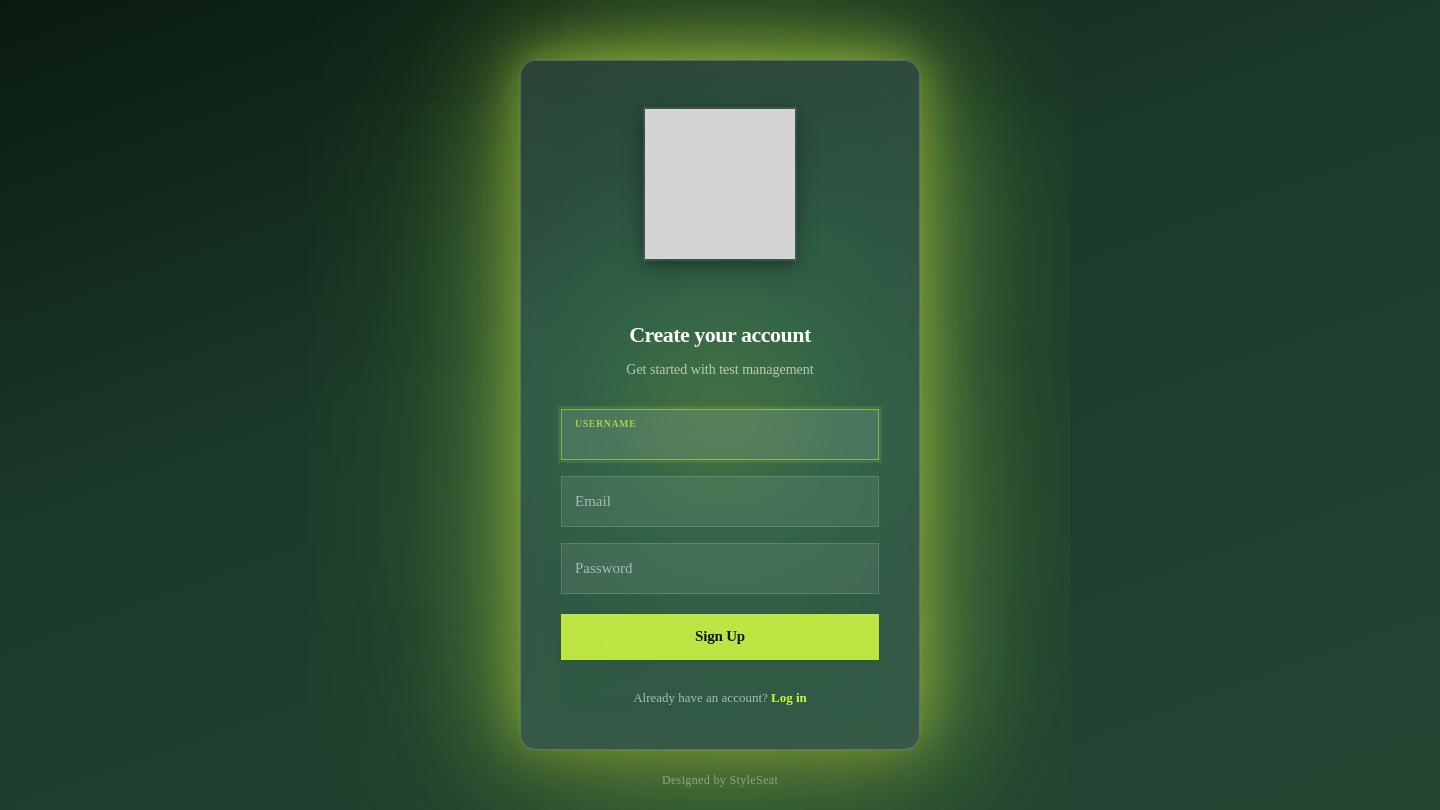
RegisterPage › shows generic error message on failure
Type "newuser" into the field labelled "Username". click: (720, 434)
box: [561,409,879,460]
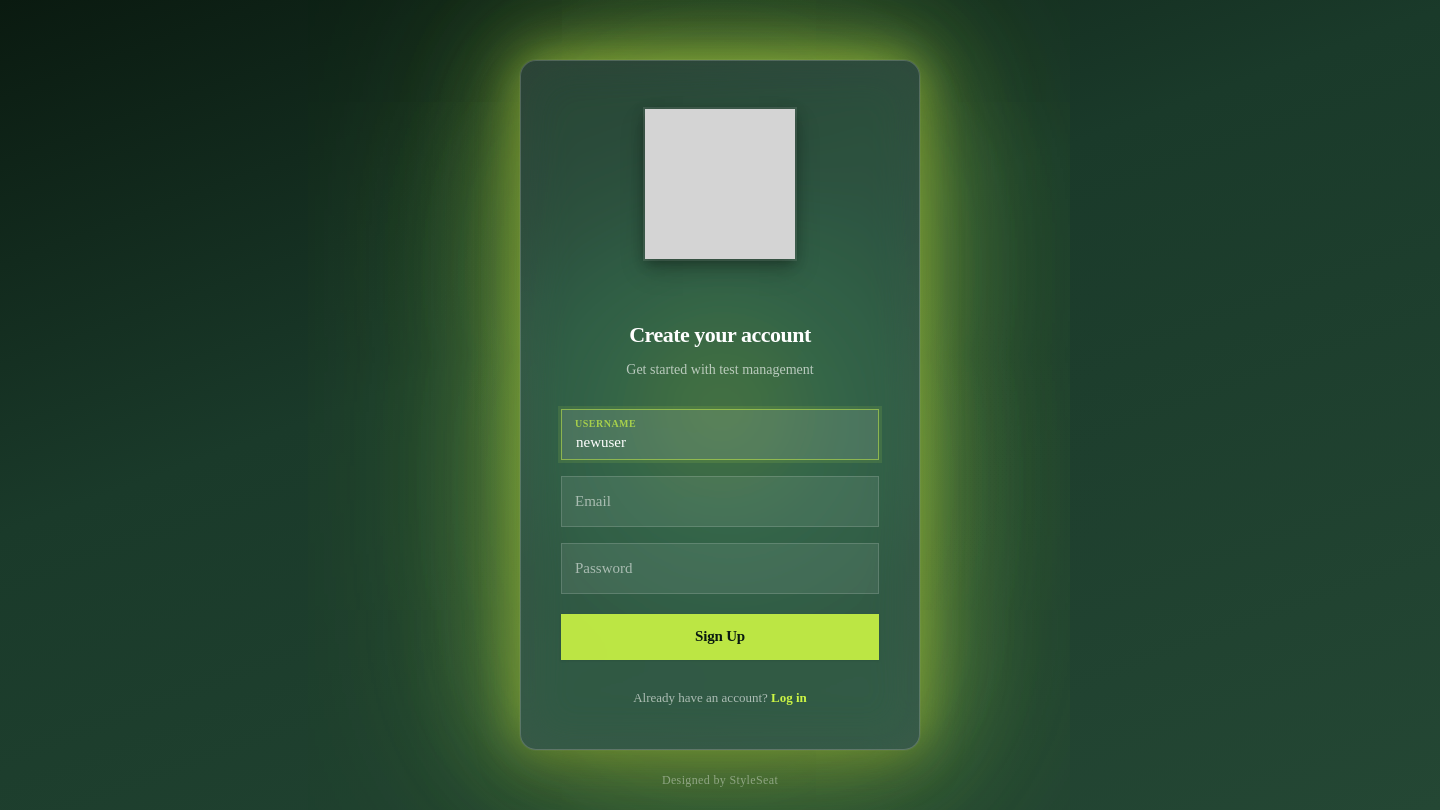
Type "new@gmail.com" into the field labelled "Email". click: (720, 501)
box: [561,476,879,527]
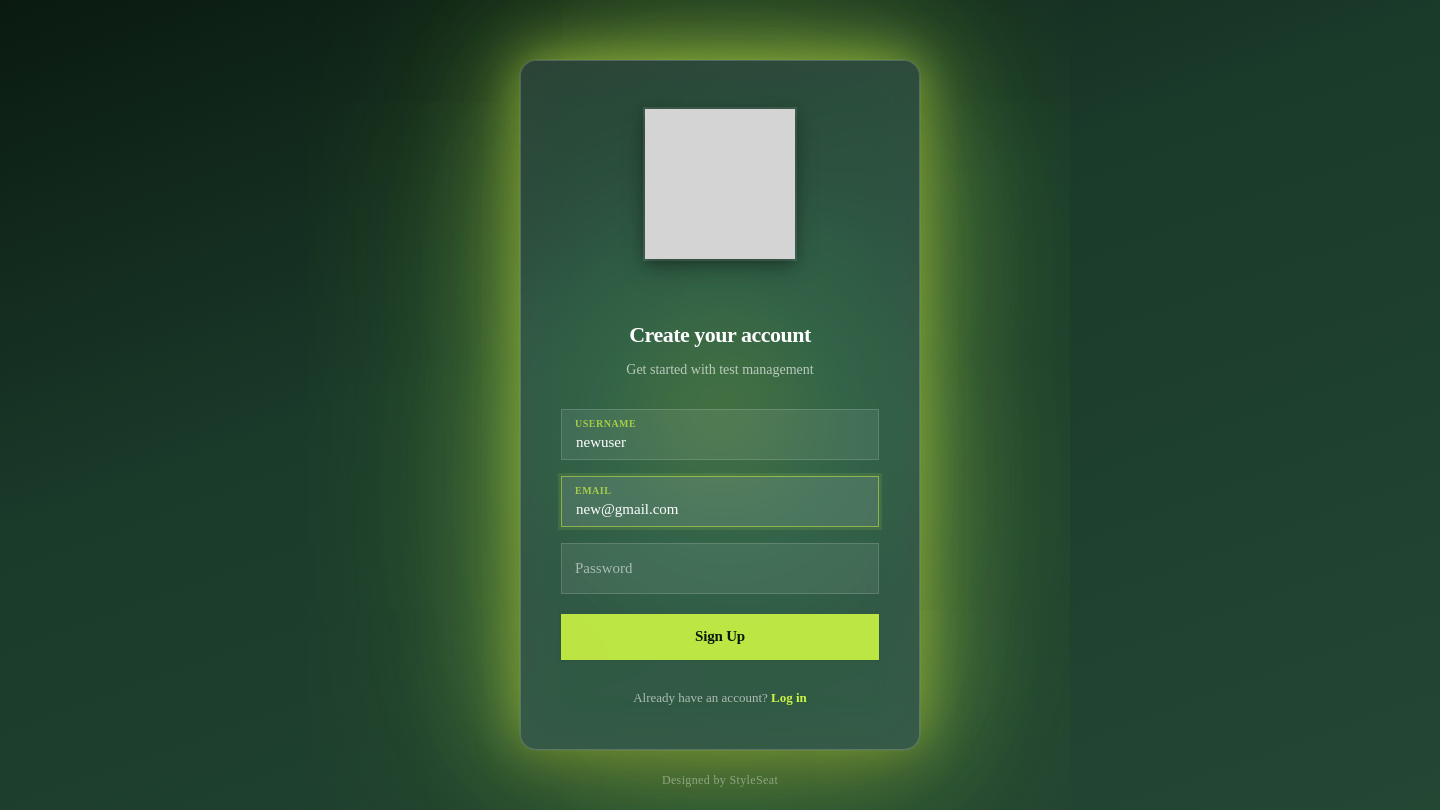
Type "Pass1234" into the password field labelled "Password". click: (720, 568)
box: [561,543,879,594]
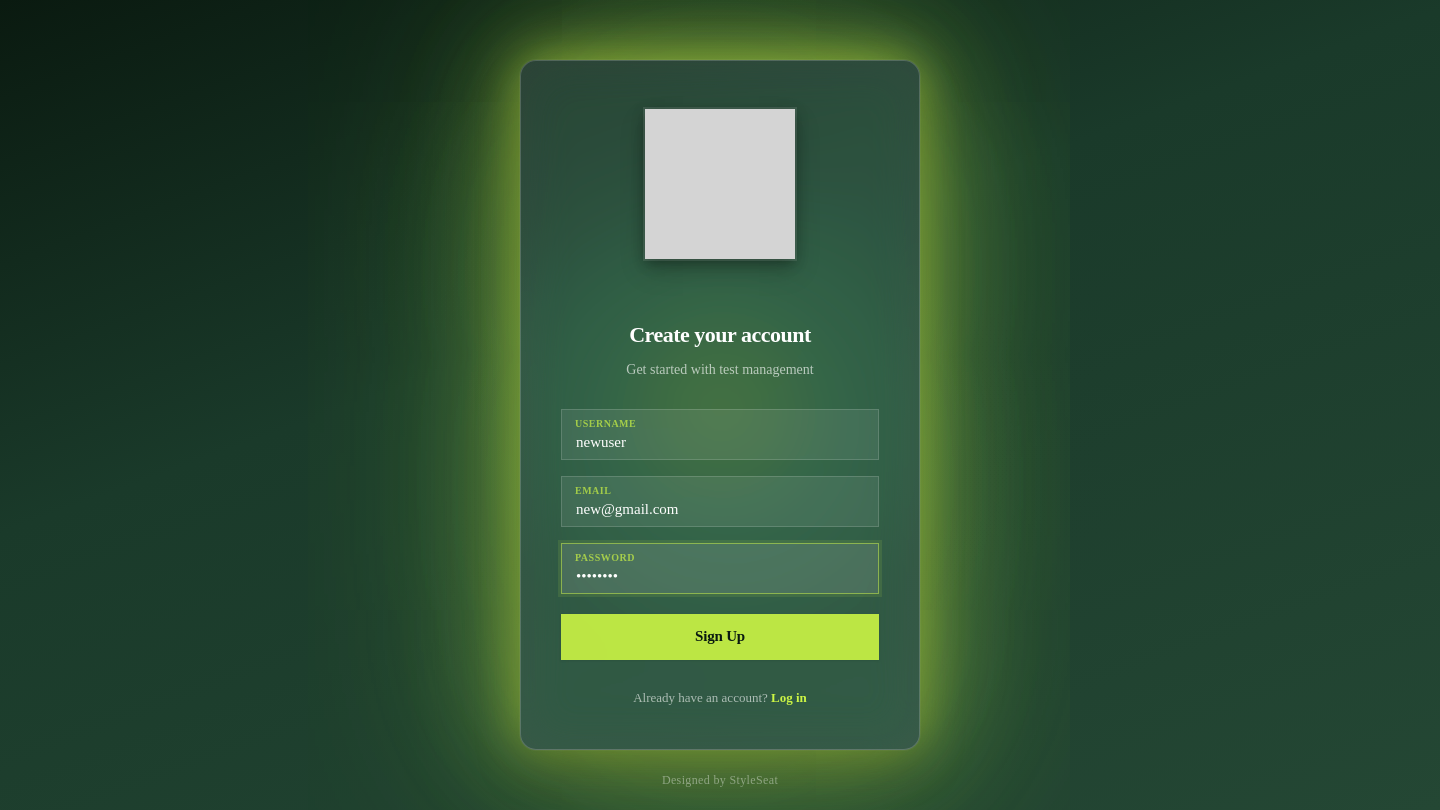
Click the button "Sign Up". click: (720, 637)
box: [561,614,879,660]
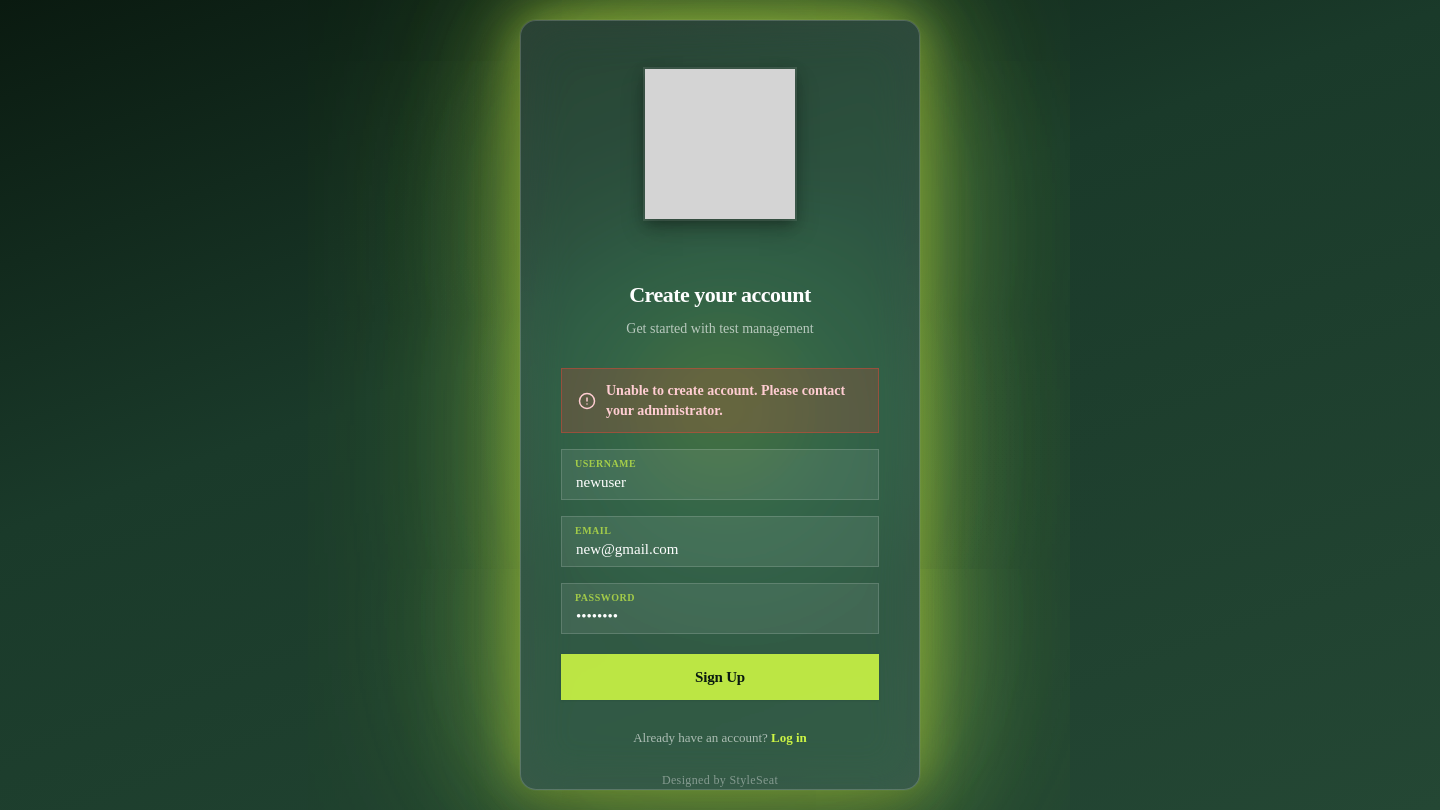
Expected: the text "Unable to create account. Please contact your administrator." is shown, [561,368,879,434]
